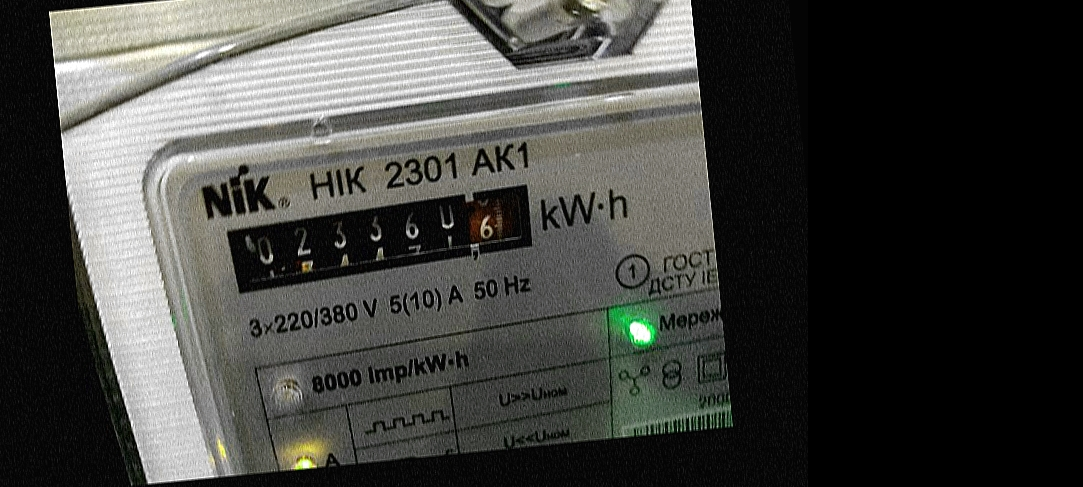0: (252, 230, 278, 266), (433, 198, 458, 231)
2: (291, 222, 314, 256)
3: (364, 208, 386, 242), (326, 217, 348, 250)
6: (399, 206, 423, 241), (474, 207, 498, 242)
screen: (207, 172, 553, 300)
